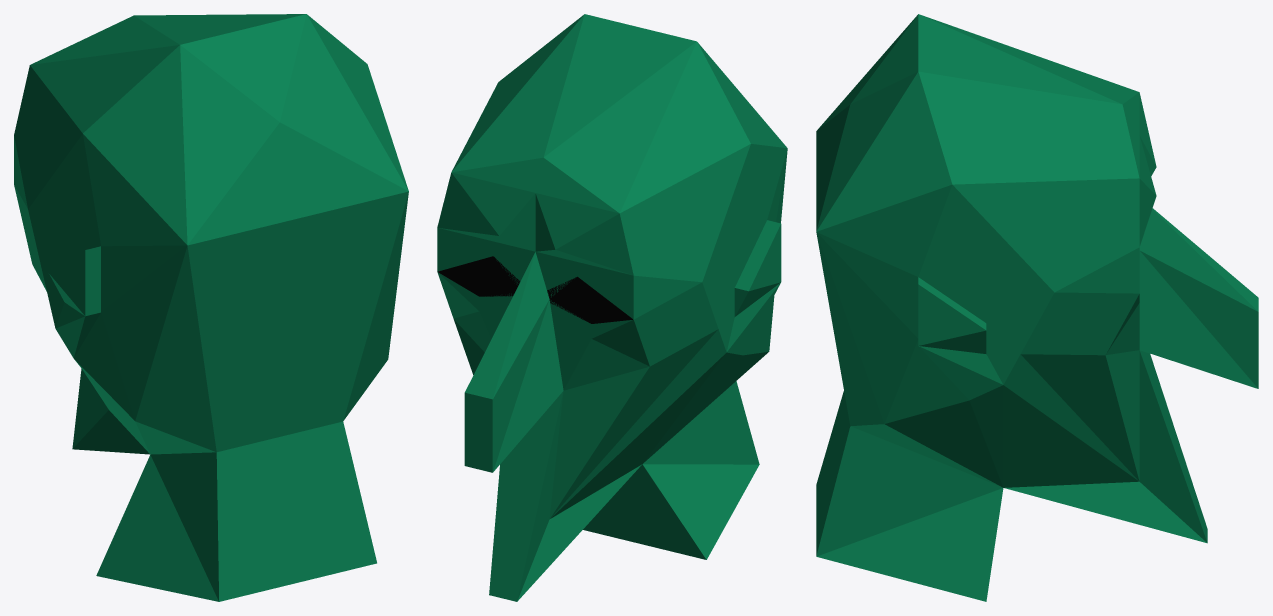
File: npc_world_witch_3_0.obj
The picture shows the model from 3 angles, left to right: view 1: azimuth 30°, elevation 25°; view 2: azimuth 150°, elevation 25°; view 3: azimuth 270°, elevation 25°; orthographic projection. The views are drawn at different scales.
Size of the model in its own units: 0.1562 by 0.2578 by 0.2031.
